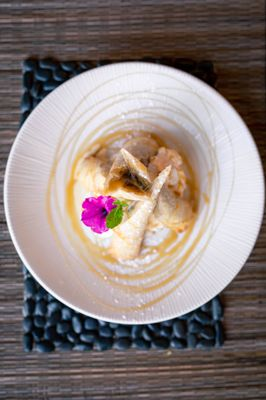sushi: (3, 61, 257, 322)
